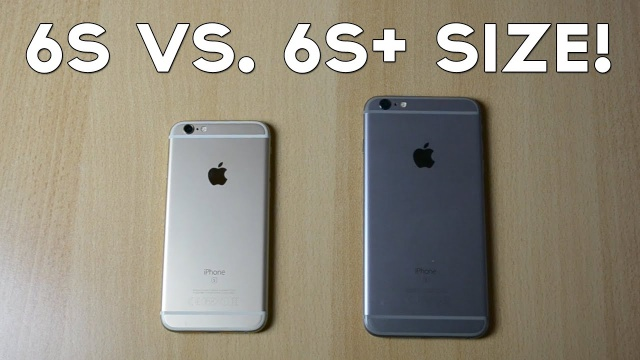apple: (404, 135, 444, 179), (201, 155, 236, 200)
